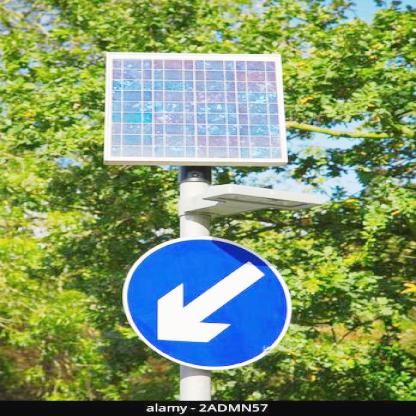Keep left: (118, 228, 300, 378)
